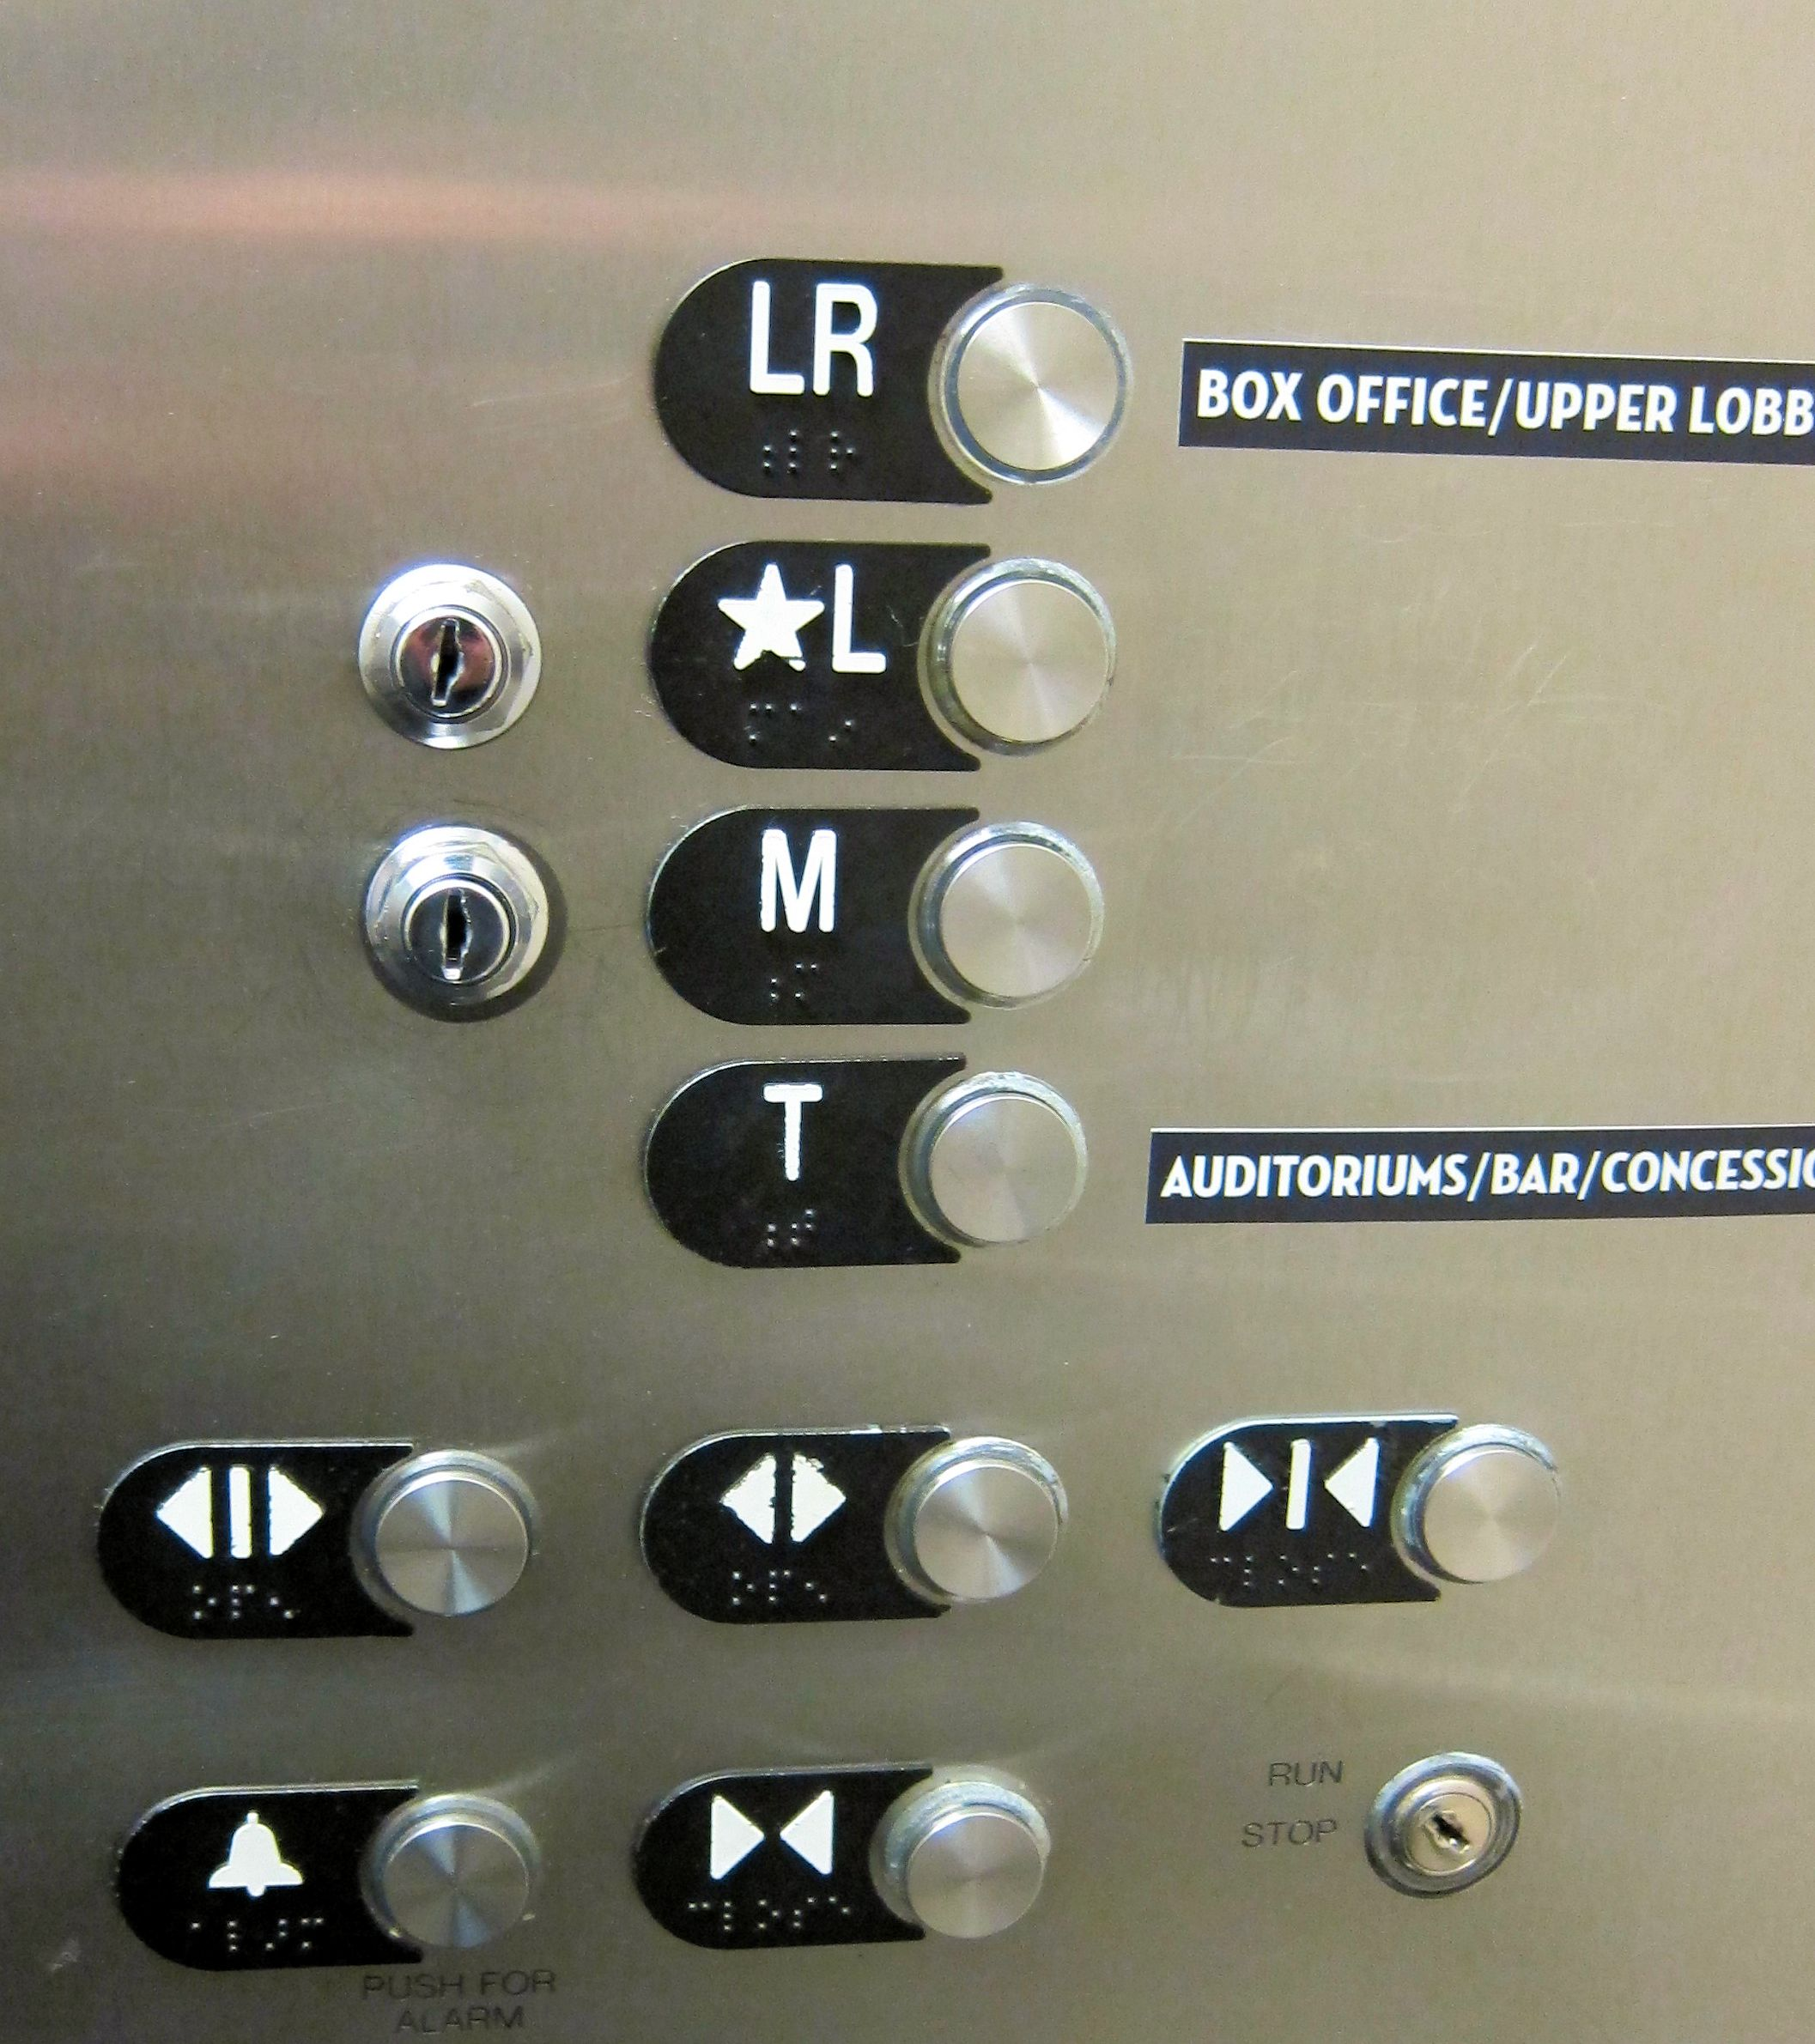button: (650, 250, 1137, 511), (646, 532, 1132, 783), (634, 800, 1114, 1033), (629, 1049, 1100, 1275), (102, 1766, 573, 1988), (82, 1427, 555, 1646), (629, 1413, 1077, 1636), (627, 1741, 1058, 1965), (1142, 1403, 1580, 1622)
